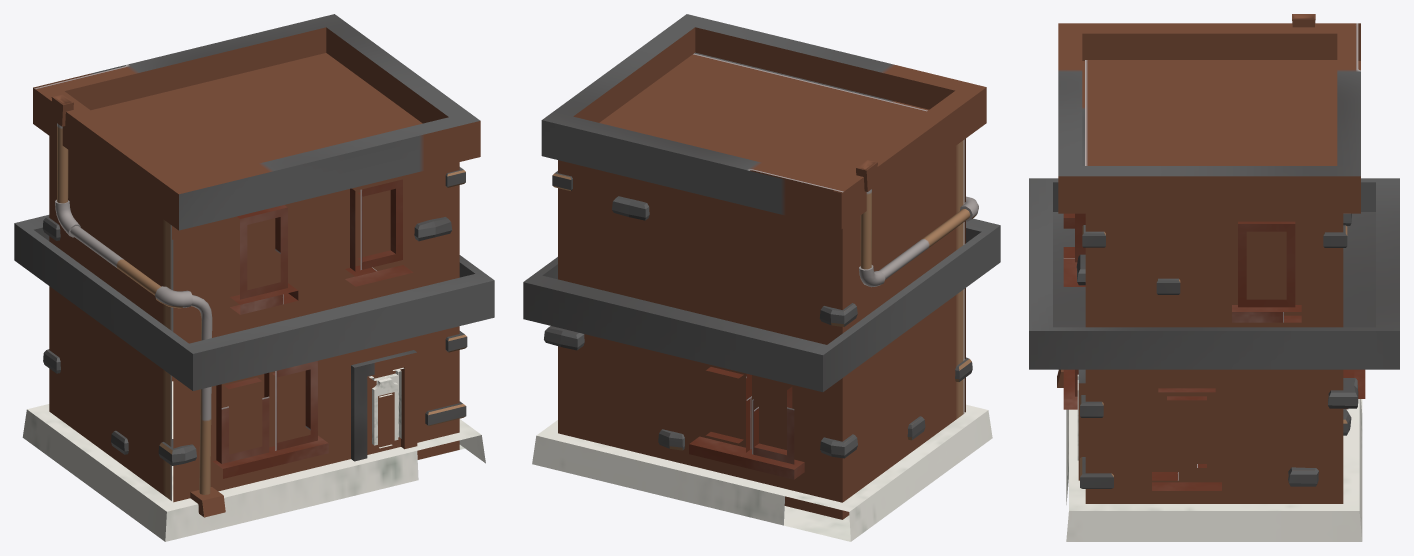
The model's file is Building_pipe.fbx.
3 views of the same model, side by side, from view 1: azimuth 30°, elevation 25°; view 2: azimuth 150°, elevation 25°; view 3: azimuth 270°, elevation 25° (orthographic). The views are drawn at different scales.
Parts seen in each view (by area): view 1: DummyBuilding; view 2: DummyBuilding; view 3: DummyBuilding.
Boxes of the visible parts, <box> form: DummyBuilding: <box>14,14,494,541</box>; DummyBuilding: <box>523,14,1000,541</box>; DummyBuilding: <box>1029,14,1399,541</box>.
Bounding box in the file's own units: 752 × 796 × 726.
